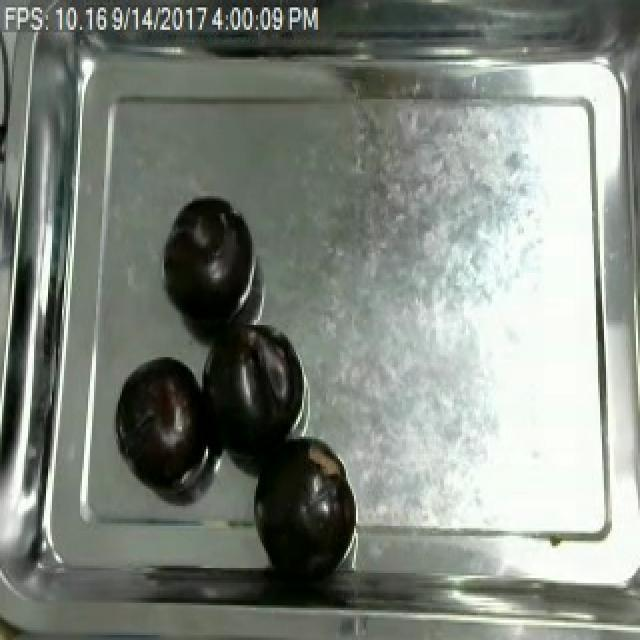Fruit: (248, 434, 360, 571), (110, 349, 210, 488), (158, 193, 256, 330), (200, 320, 298, 456)
